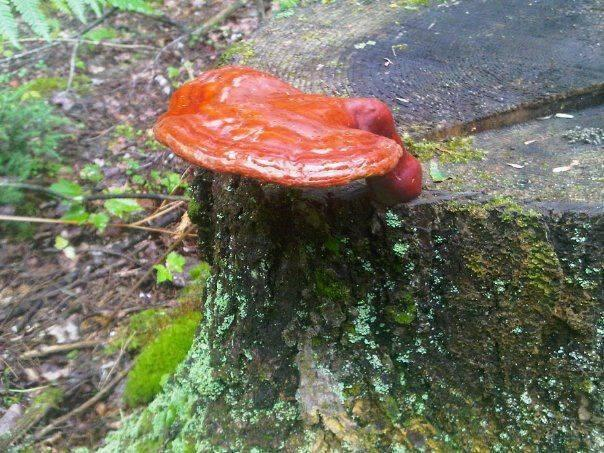Non-edible Mushroom: (151, 63, 423, 205)
